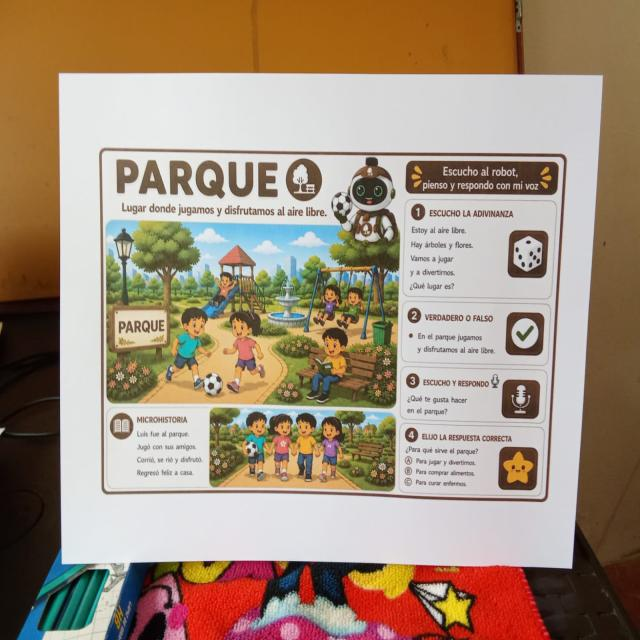parque: (95, 140, 571, 509)
